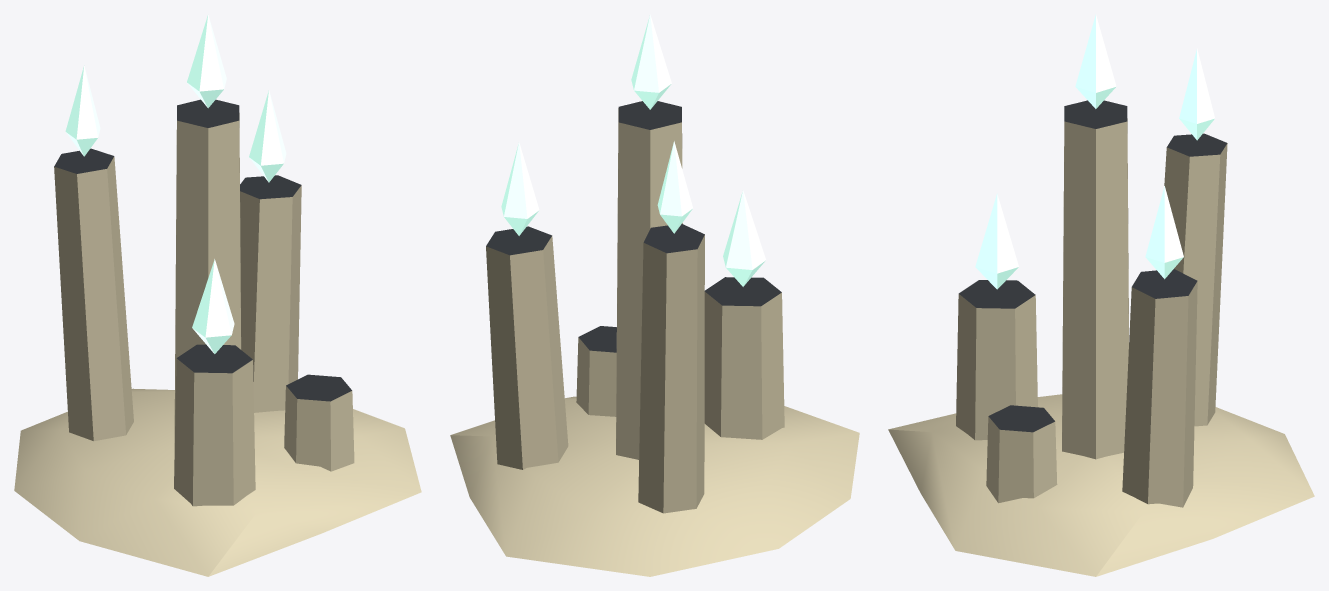
File: CandleClusterSmall.fbx
3 renders of one model, left to right at view 1: azimuth 30°, elevation 25°; view 2: azimuth 150°, elevation 25°; view 3: azimuth 270°, elevation 25°, orthographic.
Parts seen in each view (by area): view 1: CandleClusterSmall; view 2: CandleClusterSmall; view 3: CandleClusterSmall.
Boxes of the visible parts, box(x1,y1,x2,y2) form: CandleClusterSmall: box(14, 14, 421, 576); CandleClusterSmall: box(450, 14, 859, 576); CandleClusterSmall: box(888, 14, 1314, 576).
Size of the model in its own units: 0.3393 by 0.4208 by 0.3458.
